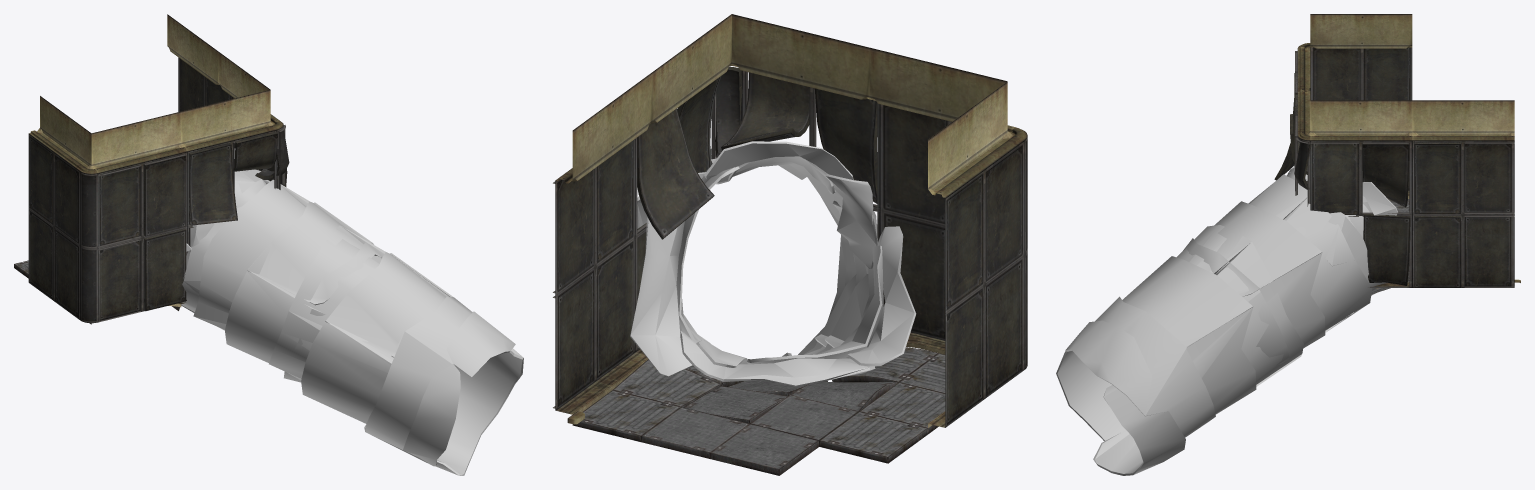
The model's file is 01_02_storage_room_tunnel.dae.
3 views of the same model, side by side, from view 1: azimuth 30°, elevation 25°; view 2: azimuth 150°, elevation 25°; view 3: azimuth 270°, elevation 25° (orthographic). The views are drawn at different scales.
Visible parts, largest first — view 1: tunnel, walls; view 2: walls, tunnel, floor_edge, floor; view 3: tunnel, walls.
Part boxes in pixels (x1=…): tunnel: x1=181, y1=148, x2=523, y2=475; walls: x1=28, y1=14, x2=289, y2=323; walls: x1=553, y1=14, x2=1027, y2=427; tunnel: x1=630, y1=141, x2=916, y2=386; floor_edge: x1=572, y1=347, x2=945, y2=463; floor: x1=641, y1=380, x2=897, y2=475; tunnel: x1=1056, y1=164, x2=1409, y2=475; walls: x1=1274, y1=14, x2=1520, y2=288.
Size of the model in its own units: 7.76 by 7.07 by 9.11.
